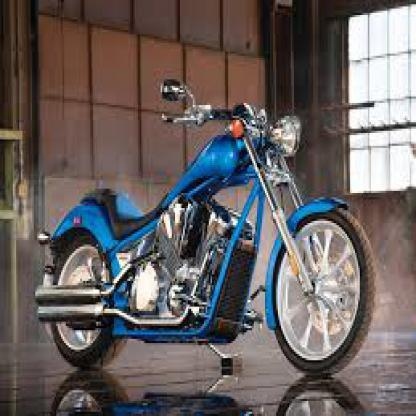Motorcycle: (31, 62, 387, 380)
